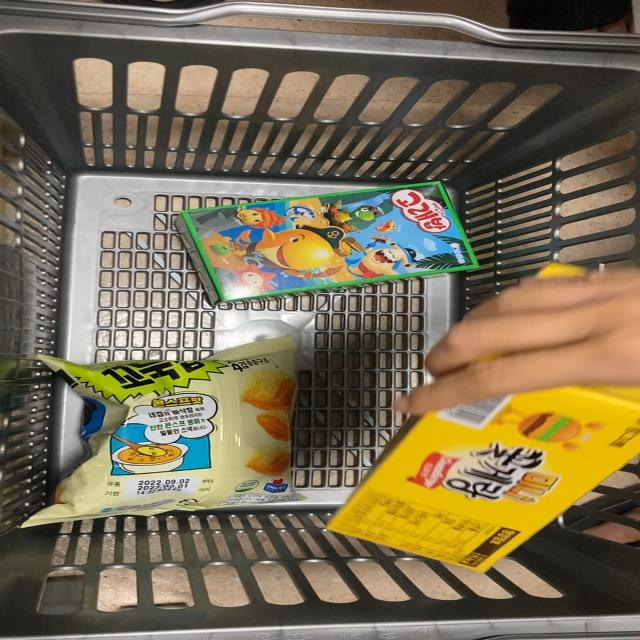ggobukchip: (36, 336, 304, 525)
goraebob: (171, 176, 482, 302)
minicrab: (320, 263, 640, 577)
